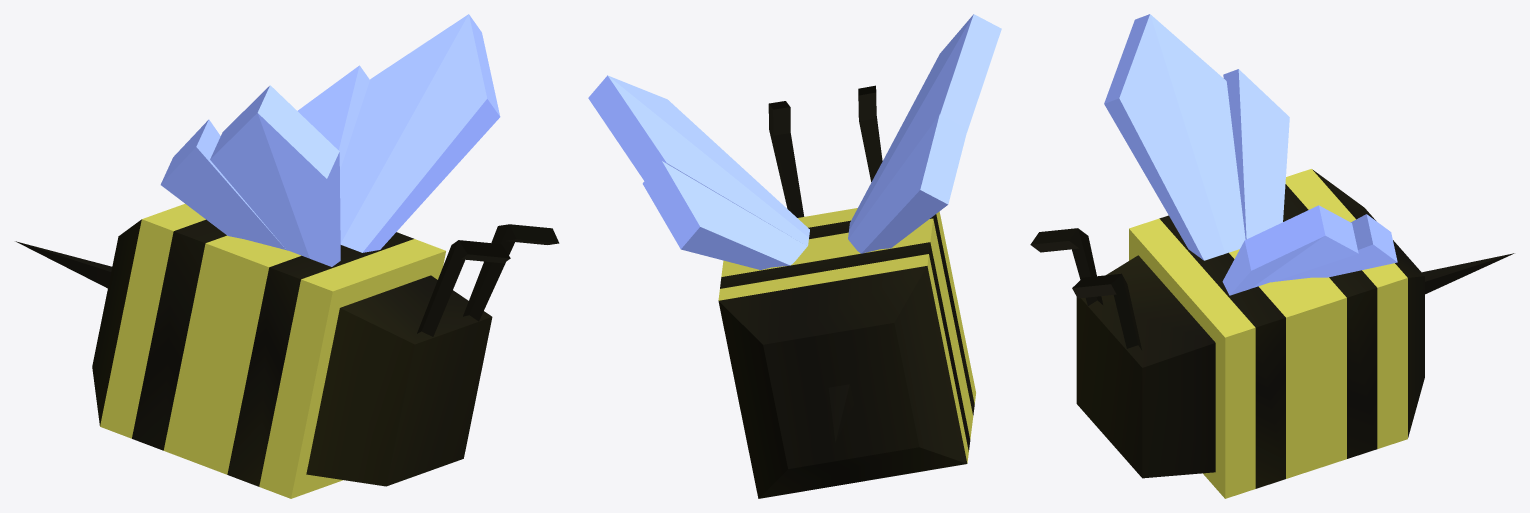
The model's file is Bee-1_TecnicalStackIsland.glb.
3 views of the same model, side by side, from view 1: azimuth 30°, elevation 25°; view 2: azimuth 150°, elevation 25°; view 3: azimuth 270°, elevation 25° (orthographic). The views are drawn at different scales.
Visible parts, largest first — view 1: Bee_1; view 2: Bee_1; view 3: Bee_1.
Boxes of the visible parts, bbox=[...] form: Bee_1: bbox=[15, 14, 559, 498]; Bee_1: bbox=[588, 14, 1001, 498]; Bee_1: bbox=[1030, 14, 1514, 498].
Bounding box in the file's own units: 0.2321 × 0.254 × 0.2745.
1 material, 1 textured.
